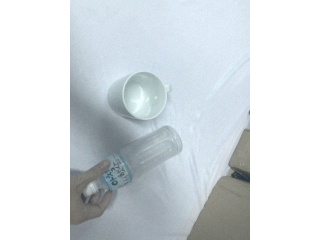bottle: (83, 125, 183, 197)
cup: (107, 71, 172, 122)
